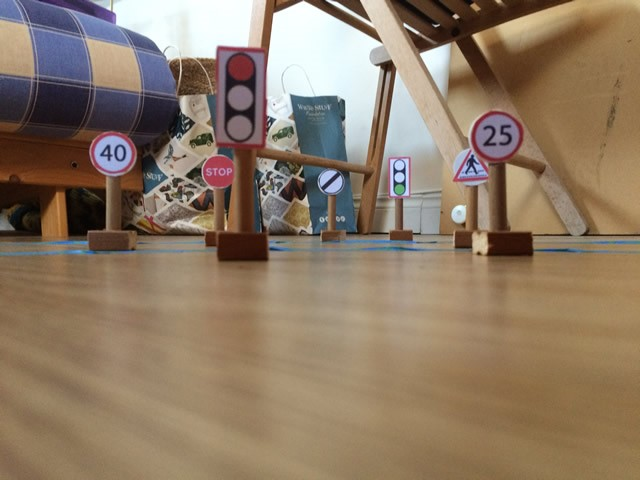Full Speed: (315, 167, 346, 197)
Green Traffic Light: (388, 155, 411, 193)
Red Traffic Light: (217, 46, 269, 149)
Speed Limit 25: (471, 110, 525, 160)
Speed Limit 40: (89, 130, 139, 176)
Stop Sign: (202, 154, 235, 191)
